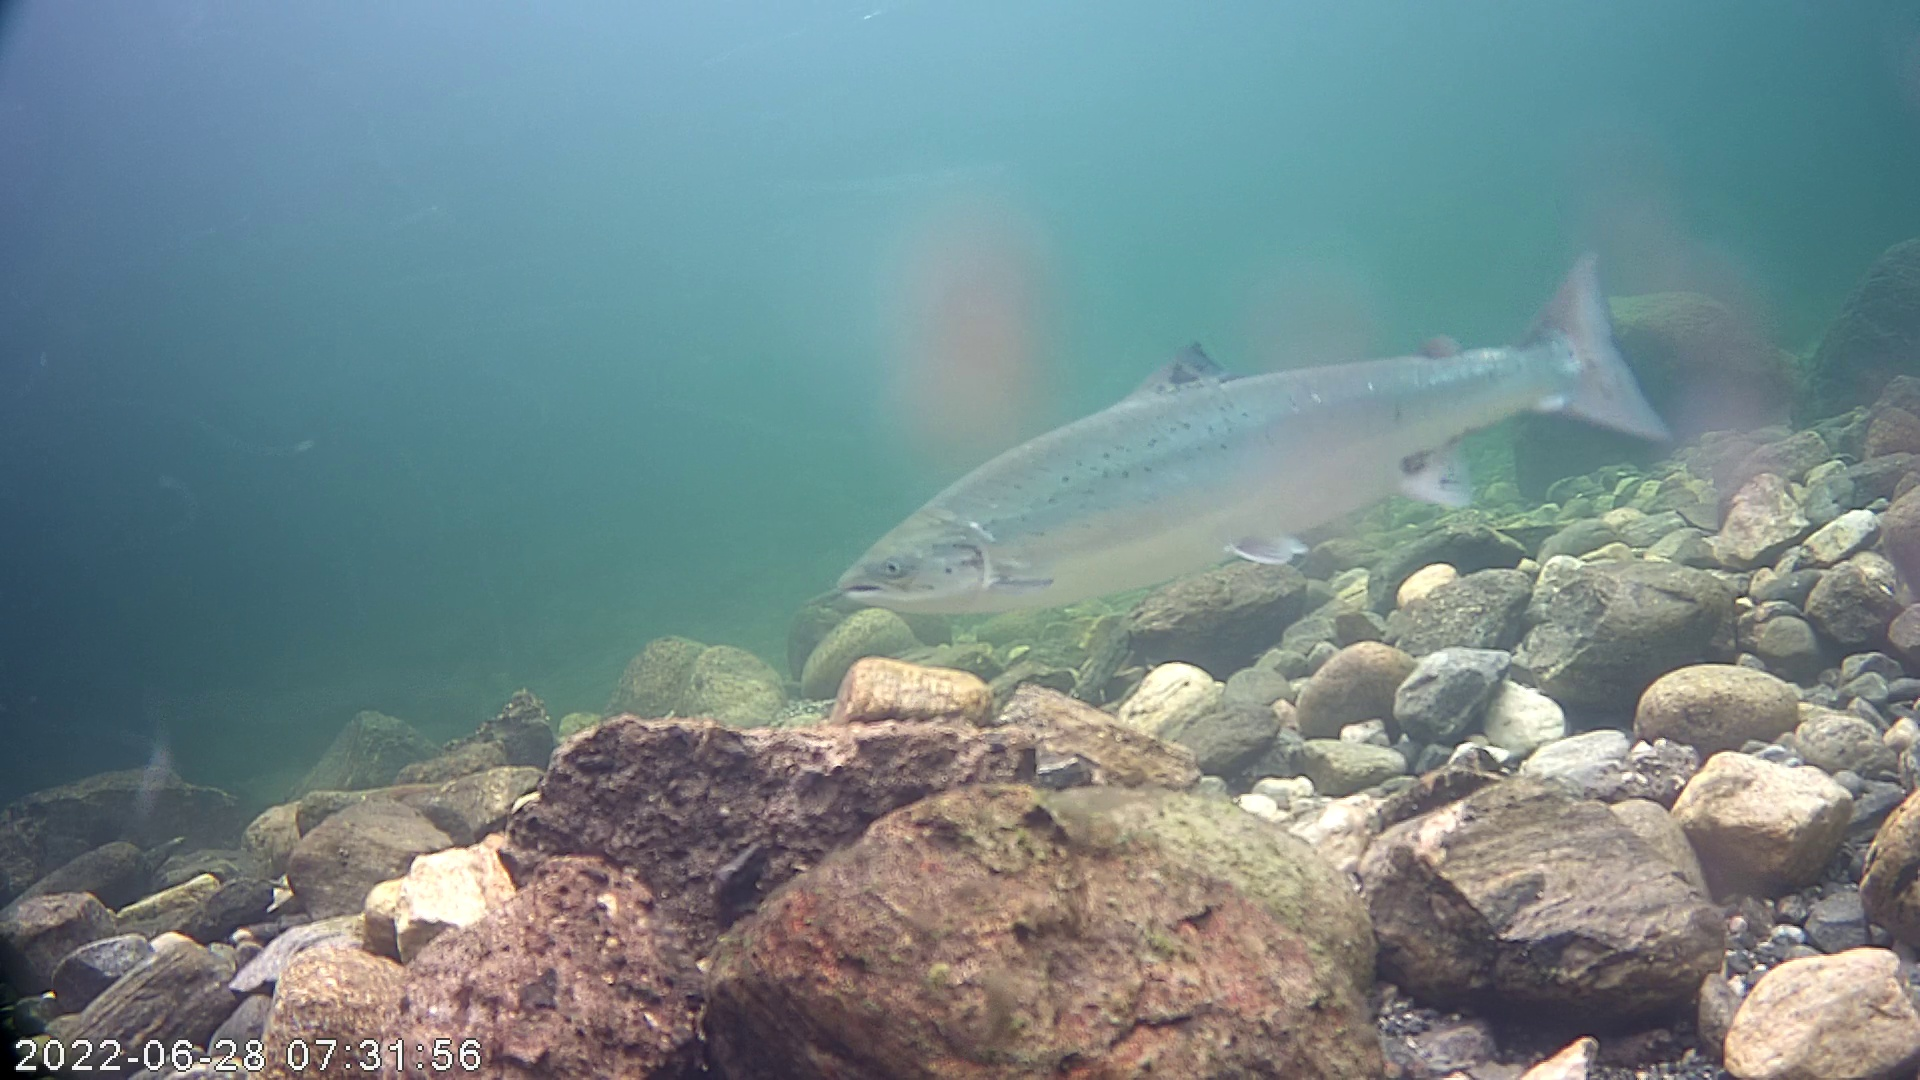salmon: (825, 206, 1688, 650)
